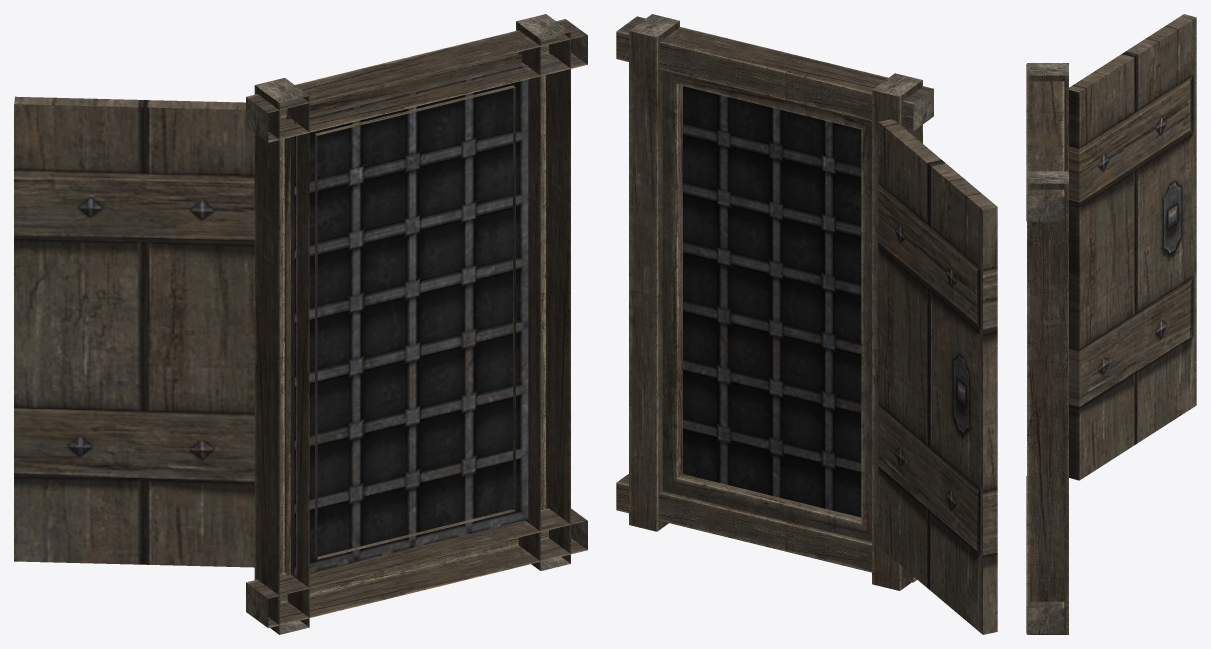
The model's file is Window8.fbx.
3 renders of one model, left to right at view 1: azimuth 30°, elevation 25°; view 2: azimuth 150°, elevation 25°; view 3: azimuth 270°, elevation 25°, orthographic. The views are drawn at different scales.
Parts seen in each view (by area): view 1: polySurface4063; view 2: polySurface4063; view 3: polySurface4063.
Boxes of the visible parts, left/top/right/bottom form: polySurface4063: left=14, top=14, right=587, bottom=634; polySurface4063: left=616, top=14, right=997, bottom=634; polySurface4063: left=1026, top=14, right=1196, bottom=634.
Size of the model in its own units: 2.94 by 3.11 by 1.06.
